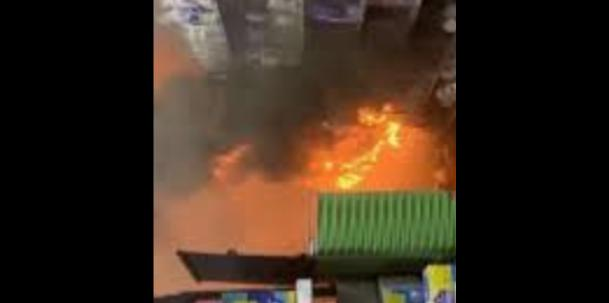fire: (249, 40, 407, 210)
